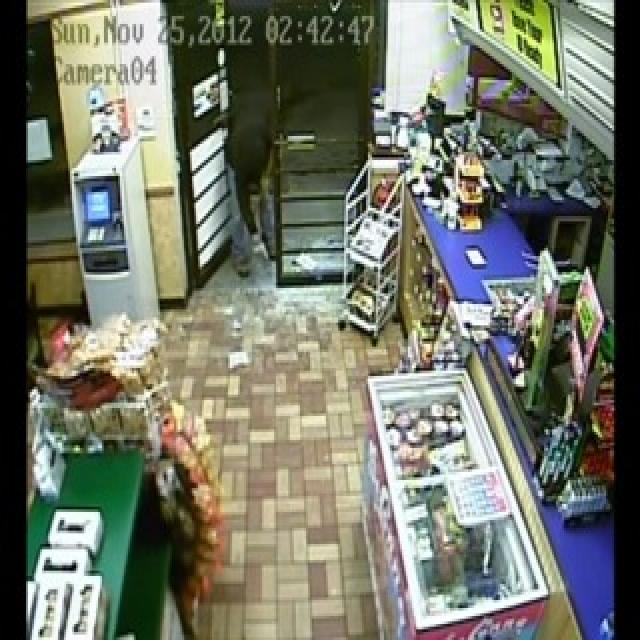thief: (209, 37, 292, 252)
